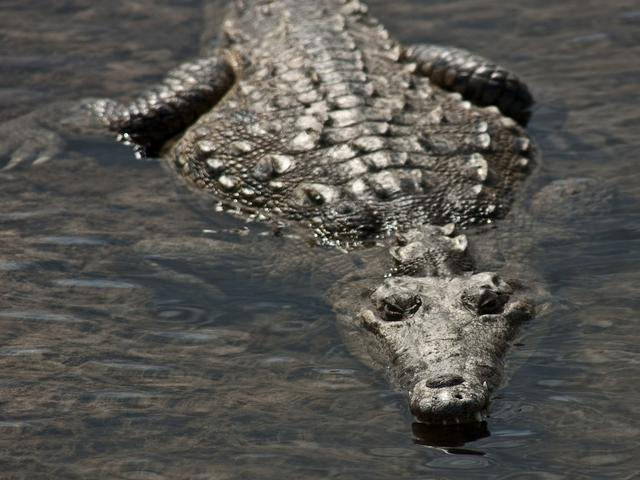crocodile: (139, 1, 530, 421)
